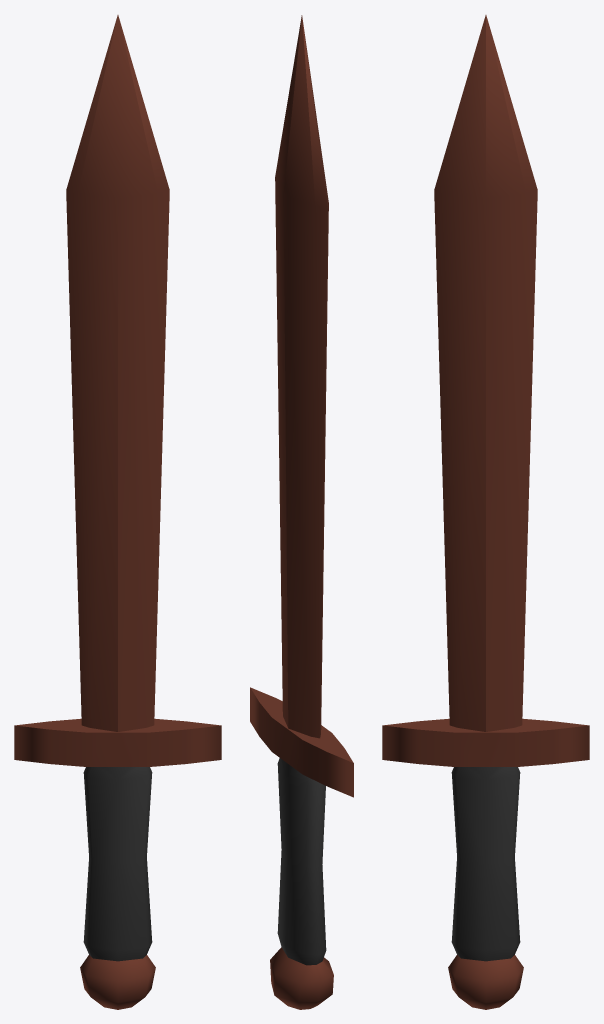
The model's file is bronze_shortsword.glb.
The picture shows the model from 3 angles, left to right: view 1: azimuth 90°, elevation 25°; view 2: azimuth 210°, elevation 25°; view 3: azimuth 270°, elevation 25°; orthographic projection.
Parts seen in each view (by area): view 1: Bronze Short Sword; view 2: Bronze Short Sword; view 3: Bronze Short Sword.
Part boxes in pixels (left/top/right/bottom): Bronze Short Sword: left=14, top=15, right=221, bottom=1009; Bronze Short Sword: left=250, top=15, right=353, bottom=1009; Bronze Short Sword: left=382, top=15, right=589, bottom=1009.
Size of the model in its own units: 0.028 by 0.4782 by 0.0909.
